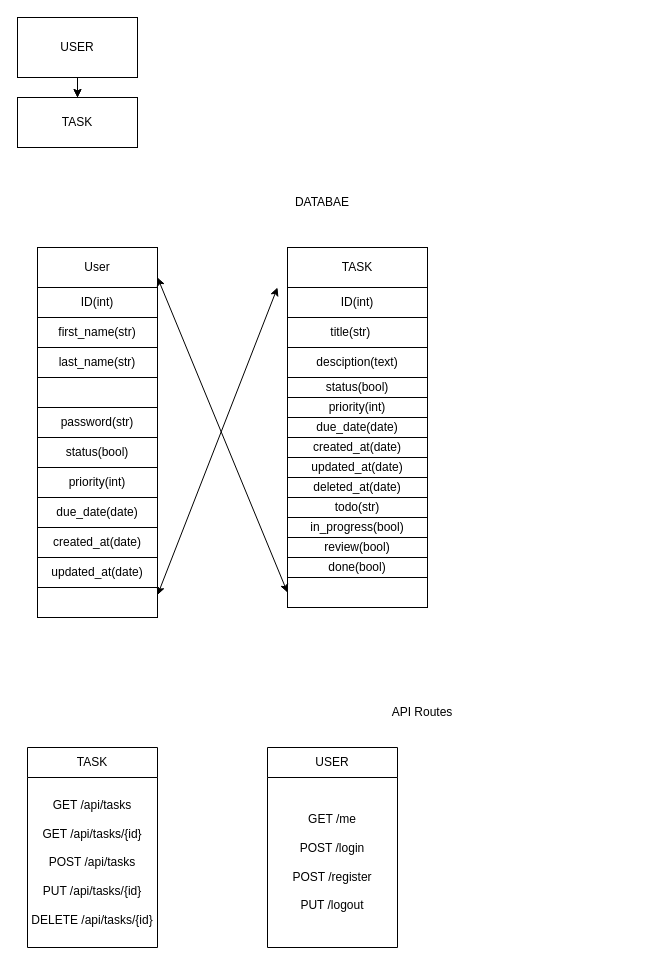
This 655x965 diagram has some shape labels left out. The shapes that lost their labels are listed below. From the top down, each one's centre as x and y in pixels, then its label:
At (97,392): "email(str)".
At (97,602): "Task ID(int FK)".
At (357,592): "User ID(int FK)".
